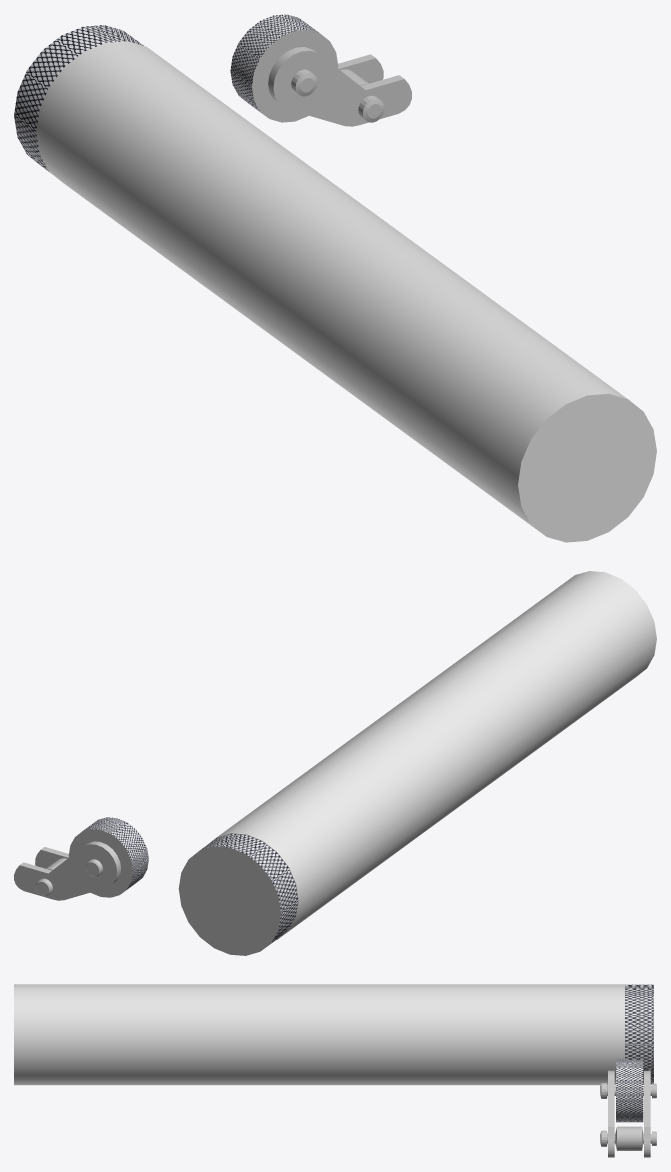
Rendered from knurling piece & pipe.fbx.
3 renders of one model, top to bottom at view 1: azimuth 30°, elevation 25°; view 2: azimuth 150°, elevation 25°; view 3: azimuth 270°, elevation 25°, orthographic. The views are drawn at different scales.
Visible parts, largest first — view 1: pCylinder8, pCylinder4, pCylinder1, pCylinder7, pCylinder5, pCylinder6; view 2: pCylinder8, pCylinder7, pCylinder5, pCylinder1; view 3: pCylinder8, pCylinder7, pCylinder1, pCylinder6, pCylinder5, pCylinder4.
Boxes of the visible parts, x1=… form: pCylinder8: x1=36, y1=41, x2=656, y2=542; pCylinder4: x1=268, y1=47, x2=411, y2=126; pCylinder1: x1=230, y1=14, x2=338, y2=122; pCylinder7: x1=14, y1=25, x2=143, y2=171; pCylinder5: x1=338, y1=54, x2=383, y2=83; pCylinder6: x1=340, y1=69, x2=384, y2=122; pCylinder8: x1=209, y1=571, x2=656, y2=939; pCylinder7: x1=178, y1=834, x2=297, y2=955; pCylinder5: x1=14, y1=841, x2=120, y2=900; pCylinder1: x1=68, y1=817, x2=148, y2=897; pCylinder8: x1=14, y1=984, x2=624, y2=1085; pCylinder7: x1=625, y1=984, x2=653, y2=1084; pCylinder1: x1=616, y1=1059, x2=643, y2=1122; pCylinder6: x1=600, y1=1126, x2=656, y2=1150; pCylinder5: x1=644, y1=1070, x2=650, y2=1157; pCylinder4: x1=608, y1=1070, x2=614, y2=1157.
Size of the model in its own units: 17.7 by 6.79 by 42.88.
